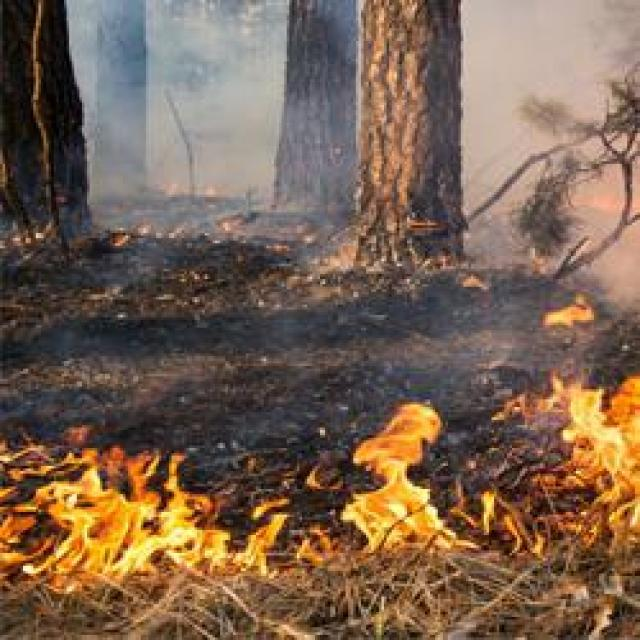Fire: (7, 440, 226, 624), (349, 394, 482, 538), (543, 382, 640, 540)
Smoke: (452, 7, 640, 292), (83, 0, 299, 205)
